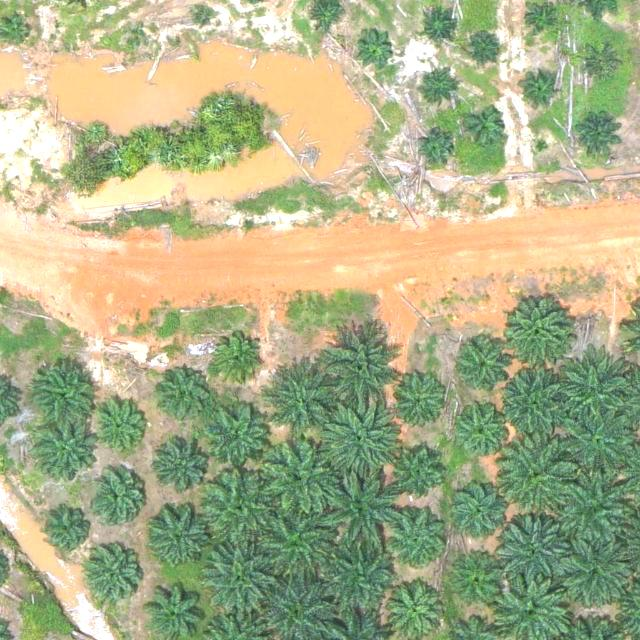Kelapa_Sawit: (555, 535, 633, 613), (556, 471, 634, 549), (560, 403, 638, 481), (556, 353, 634, 431), (496, 366, 574, 444), (503, 435, 581, 513), (495, 509, 573, 587), (322, 324, 400, 402), (319, 399, 397, 477), (320, 469, 398, 547), (322, 541, 400, 619), (265, 359, 343, 437), (262, 437, 340, 515), (258, 501, 336, 579), (201, 467, 279, 545), (499, 295, 569, 366), (202, 540, 272, 610), (385, 510, 447, 573), (207, 404, 269, 467), (34, 419, 96, 482), (32, 361, 94, 424), (387, 367, 449, 429), (145, 505, 207, 567), (453, 479, 508, 534), (159, 367, 214, 422), (92, 401, 147, 456), (90, 472, 145, 527), (85, 549, 140, 604), (40, 501, 94, 556), (452, 553, 506, 608), (457, 402, 511, 457), (456, 340, 510, 395), (390, 448, 444, 503), (208, 331, 262, 386), (155, 441, 209, 496), (574, 110, 620, 157), (457, 102, 503, 149), (416, 70, 455, 109), (353, 27, 392, 66), (520, 70, 559, 109), (415, 130, 454, 169), (582, 45, 620, 84), (420, 8, 458, 46), (462, 26, 500, 64), (523, 2, 554, 33), (195, 7, 210, 22), (136, 28, 151, 43)
